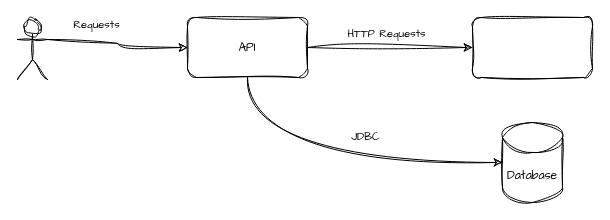
Image size: 610x220. Some labels were removed from this diagram. Here are the shapes that lost their labels. From the top down, the box of each, then its label:
(16, 18, 48, 80): Actor
(472, 16, 592, 78): GitHub
